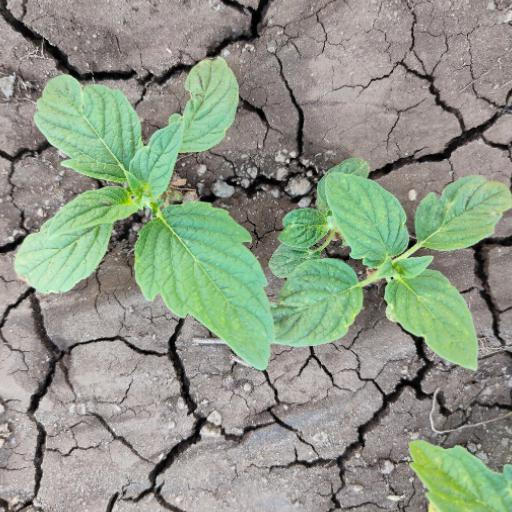crop: (31, 59, 275, 386), (272, 157, 512, 391)
